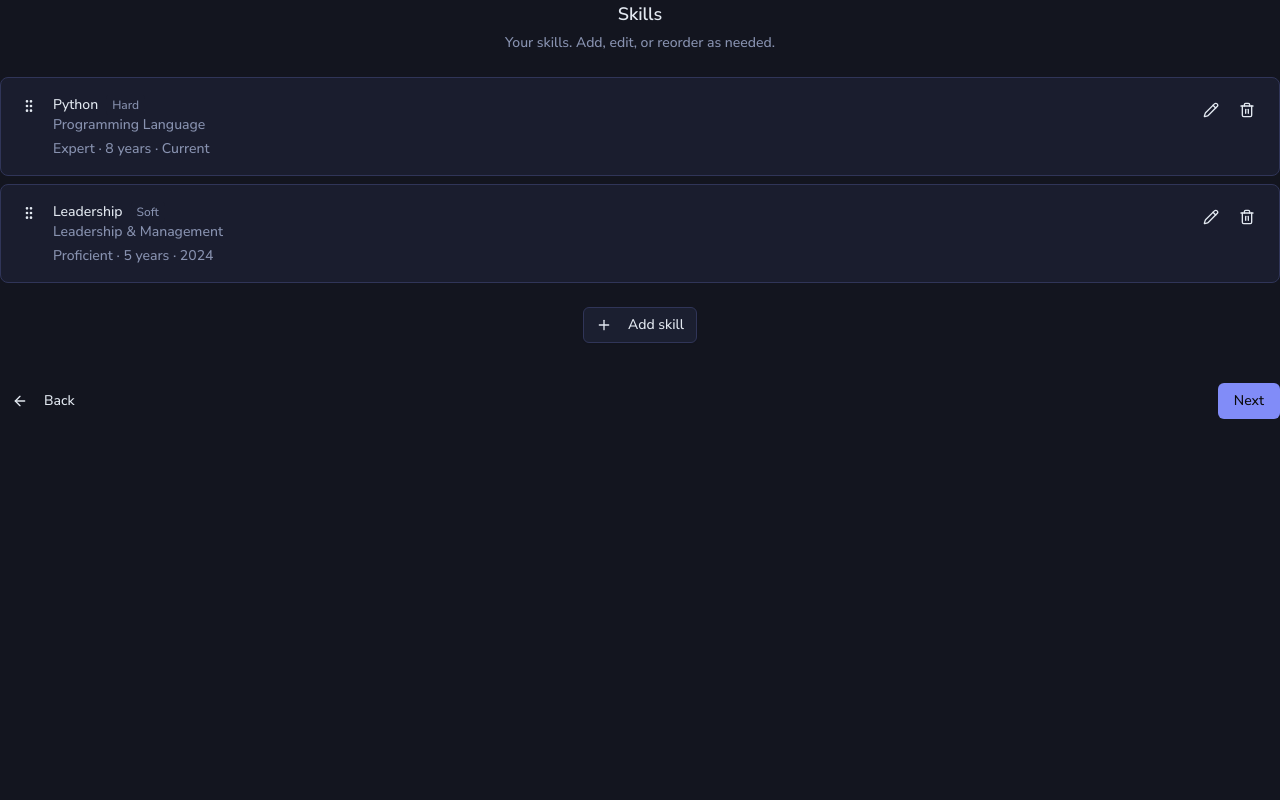
it: SkillsStep › delete flow › opens confirmation dialog on delete click
This screenshot has width=1280, height=800.
Click the button named "delete python" at (1247, 110), box [1231,94,1263,126]
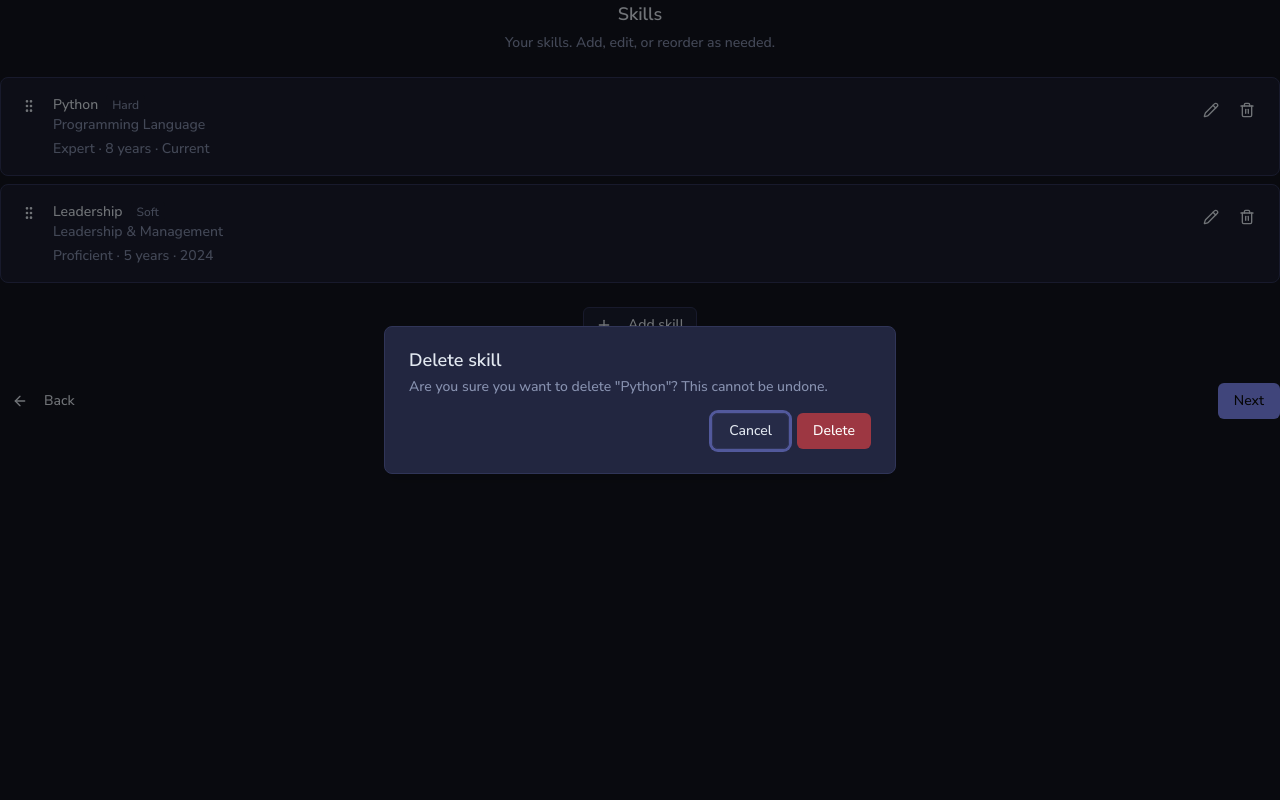
Result: the text "Are you sure you want to delete" is shown at [409,377,828,396]
